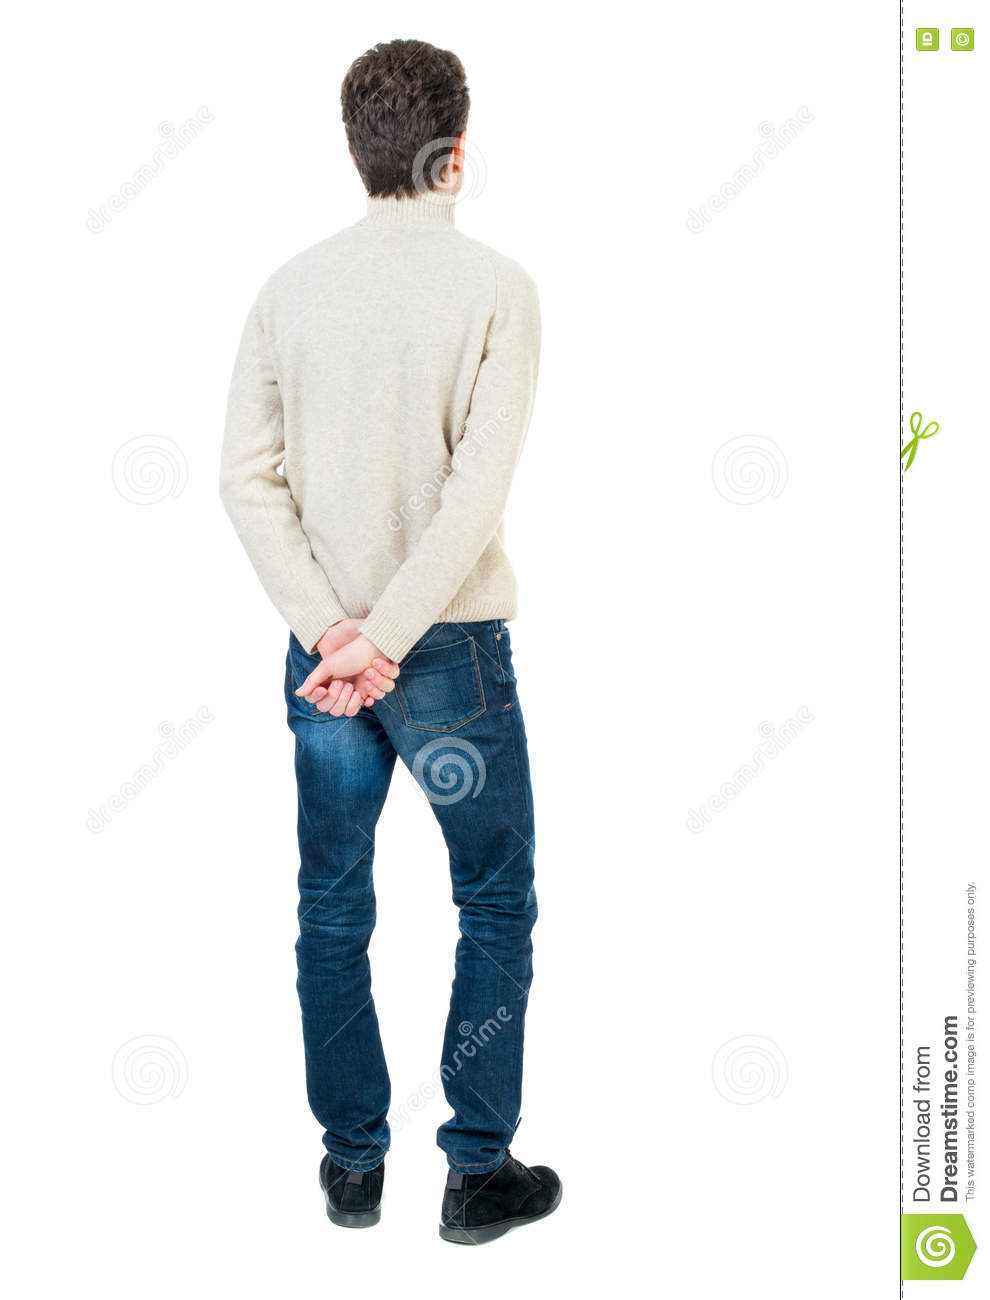person: (218, 38, 567, 1242)
